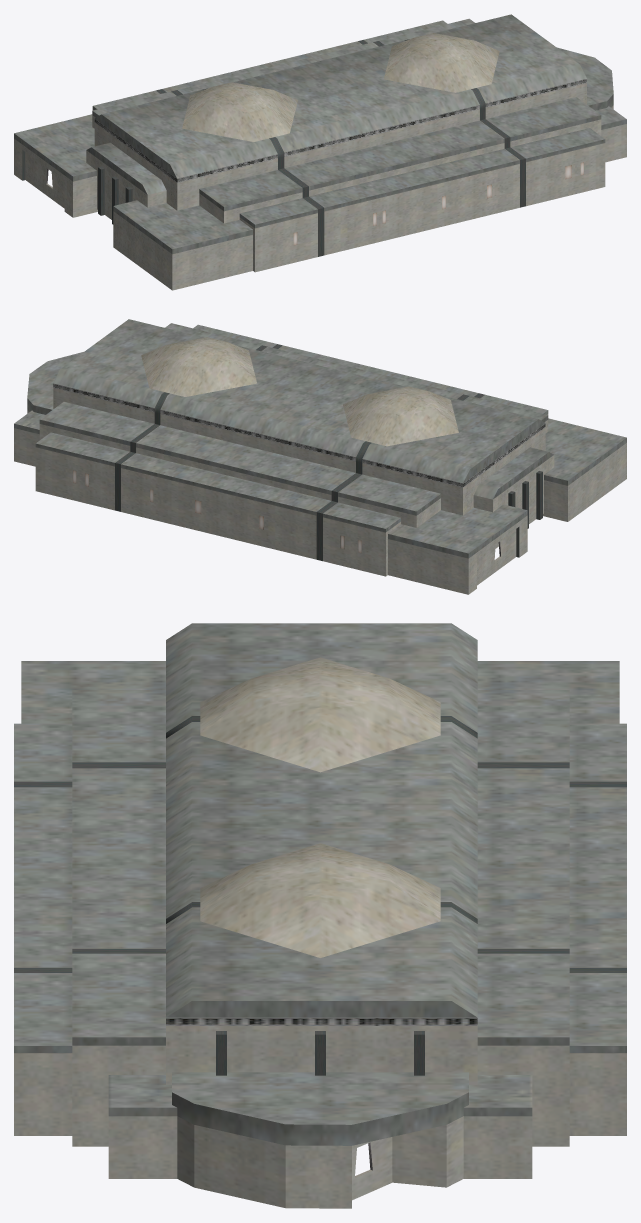
The model's file is thm_all_cantina_r0_mesh_l3.fbx.
3 renders of one model, top to bottom at view 1: azimuth 30°, elevation 25°; view 2: azimuth 150°, elevation 25°; view 3: azimuth 270°, elevation 25°, orthographic. The views are drawn at different scales.
Parts seen in each view (by area): view 1: mesh_node; view 2: mesh_node; view 3: mesh_node.
Boxes of the visible parts, x1=… form: mesh_node: x1=14, y1=14, x2=626, y2=290; mesh_node: x1=14, y1=319, x2=626, y2=594; mesh_node: x1=14, y1=623, x2=626, y2=1208.
Bounding box in the file's own units: 101 × 19.97 × 55.66.
1 material, 1 textured.
